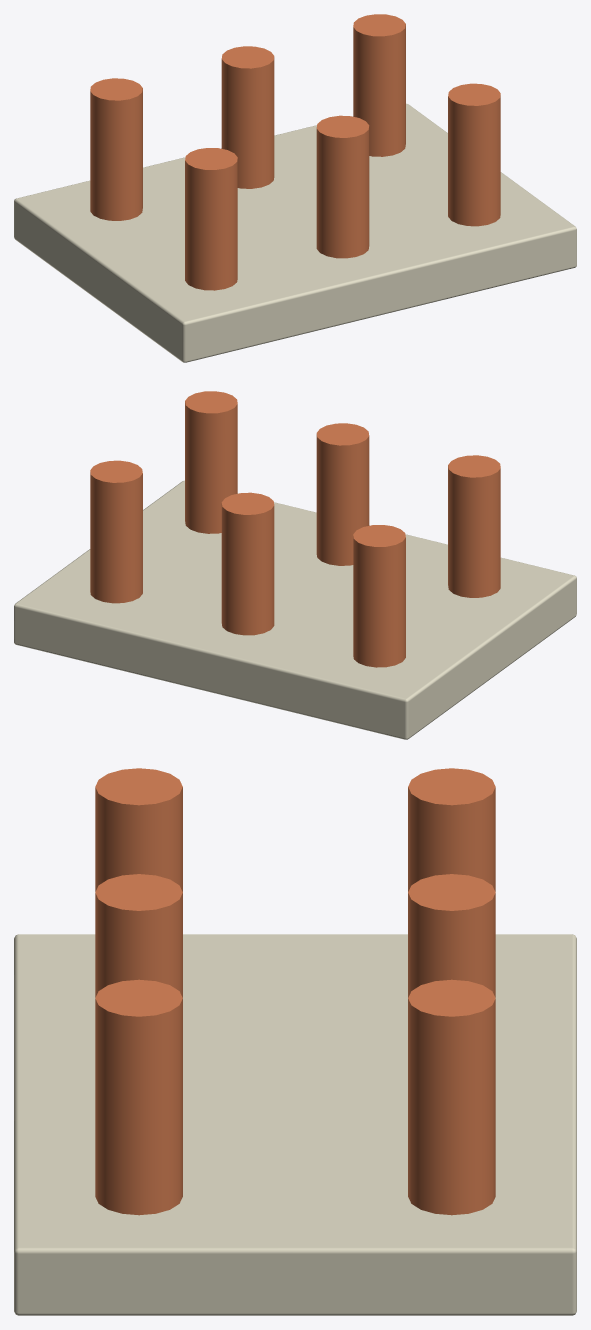
The model's file is scavengers-loot-library-fuse-board-9e2622a5__2500.glb.
3 views of the same model, one above another, from view 1: azimuth 30°, elevation 25°; view 2: azimuth 150°, elevation 25°; view 3: azimuth 270°, elevation 25° (orthographic). The views are drawn at different scales.
Parts seen in each view (by area): view 1: fuse-board; view 2: fuse-board; view 3: fuse-board.
Part boxes in pixels (x1,y1,x2,y2): fuse-board: [14, 14, 576, 362]; fuse-board: [14, 391, 576, 739]; fuse-board: [14, 768, 576, 1315].
Size of the model in its own units: 0.12 by 0.047 by 0.09.
